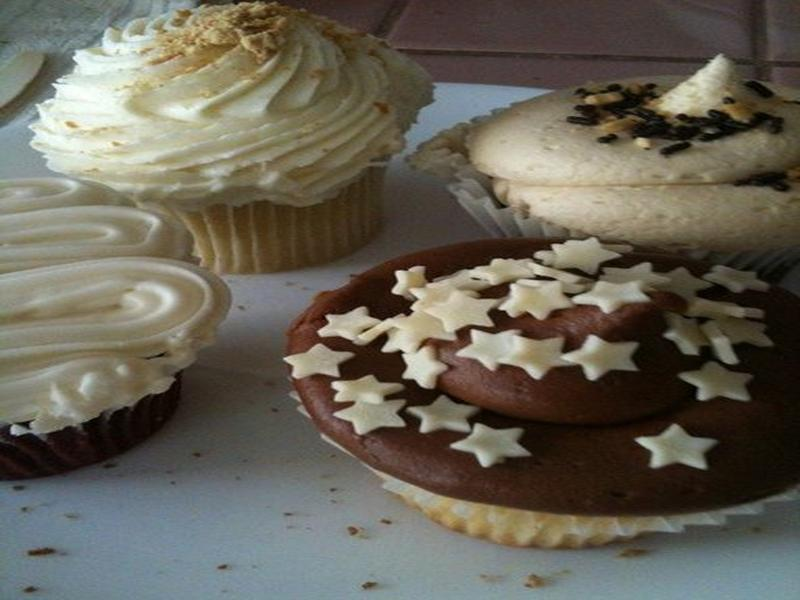cup_cake: (61, 8, 595, 451)
